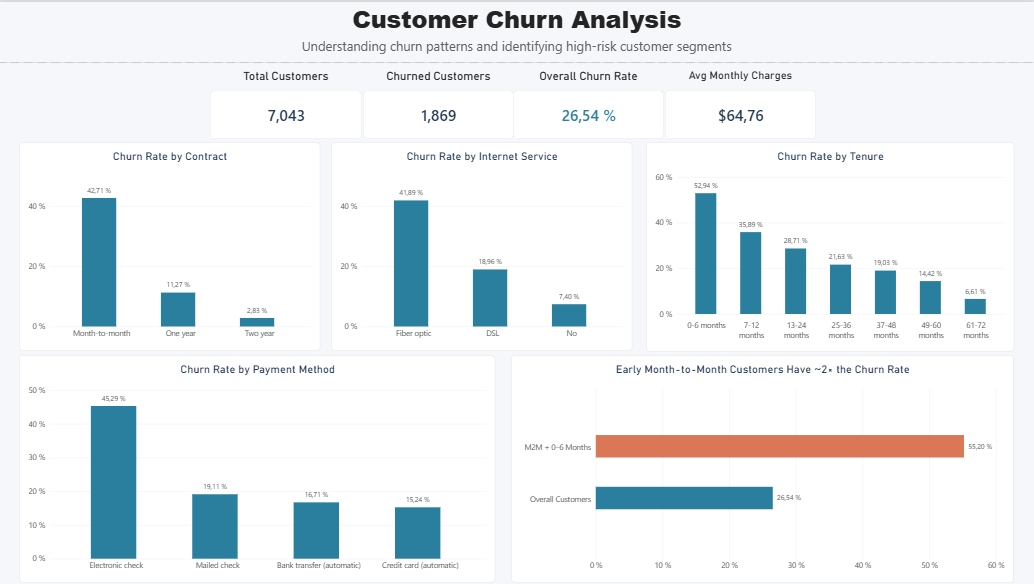

What the dashboard file says about the page in this screenshot:
{"tool":"powerbi","page":{"name":"Page 1","canvas":[1920,1080],"ordinal":0},"visuals":[{"type":"cardVisual","title":"Overall Churn Rate","fields":{"Data":["Customer_Clean.Churn Rate"]},"box":[954.4,124.4,279.6,129.6],"z":0},{"type":"cardVisual","title":"Total Customers","fields":{"Data":["Customer_Clean.Total Customers"]},"box":[393.5,123.9,281.5,129.6],"z":1000},{"type":"cardVisual","title":"Churned Customers","fields":{"Data":["Customer_Clean.Churned Customers"]},"box":[675.4,123.9,279.6,129.6],"z":2000},{"type":"cardVisual","title":"Avg Monthly Charges","fields":{"Data":["Customer_Clean.Avg Monthly Charges"]},"box":[1234.4,123.9,279.6,129.6],"z":3000},{"type":"clusteredColumnChart","title":"Churn Rate by Contract","fields":{"Category":["Customer_Clean.Contract"],"Y":["Customer_Clean.Churn Rate"]},"box":[39.6,260,557.8,386.7],"z":4000},{"type":"clusteredColumnChart","title":"Churn Rate by Tenure","fields":{"Category":["Customer_Clean.Tenure Group"],"Y":["Customer_Clean.Churn Rate"]},"box":[1199.6,260,682.1,387.5],"z":5000},{"type":"clusteredColumnChart","title":"Churn Rate by Internet Service","fields":{"Category":["Customer_Clean.InternetService"],"Y":["Customer_Clean.Churn Rate"]},"box":[617.4,260,557.8,386.7],"z":6000},{"type":"clusteredColumnChart","title":"Churn Rate by Payment Method","fields":{"Category":["Customer_Clean.PaymentMethod"],"Y":["Customer_Clean.Churn Rate"]},"box":[39.6,653.3,882.2,422.2],"z":7000},{"type":"clusteredBarChart","title":"Early Month-to-Month Customers Have ~2× the Churn Rate","fields":{"Category":["Churn Comparison.Group"],"Y":["Churn Comparison.Comparison Churn Rate"]},"box":[950.7,653.3,931.1,422.2],"z":8000},{"type":"textbox","title":"Customer Churn Analysis","box":[0,0,1921.2,123.1],"z":9000}]}

Visuals, with their boxes in screenshot pixels (x1, y1, x2, y2), scaled from the page's 1920x1080 canvas onto the 1034x584 screenshot:
"Overall Churn Rate" cardVisual: BBox(514, 67, 665, 137)
"Total Customers" cardVisual: BBox(212, 67, 364, 137)
"Churned Customers" cardVisual: BBox(364, 67, 514, 137)
"Avg Monthly Charges" cardVisual: BBox(665, 67, 815, 137)
"Churn Rate by Contract" clusteredColumnChart: BBox(21, 141, 322, 350)
"Churn Rate by Tenure" clusteredColumnChart: BBox(646, 141, 1013, 350)
"Churn Rate by Internet Service" clusteredColumnChart: BBox(332, 141, 633, 350)
"Churn Rate by Payment Method" clusteredColumnChart: BBox(21, 353, 496, 582)
"Early Month-to-Month Customers Have ~2× the Churn Rate" clusteredBarChart: BBox(512, 353, 1013, 582)
"Customer Churn Analysis" textbox: BBox(0, 0, 1033, 67)
